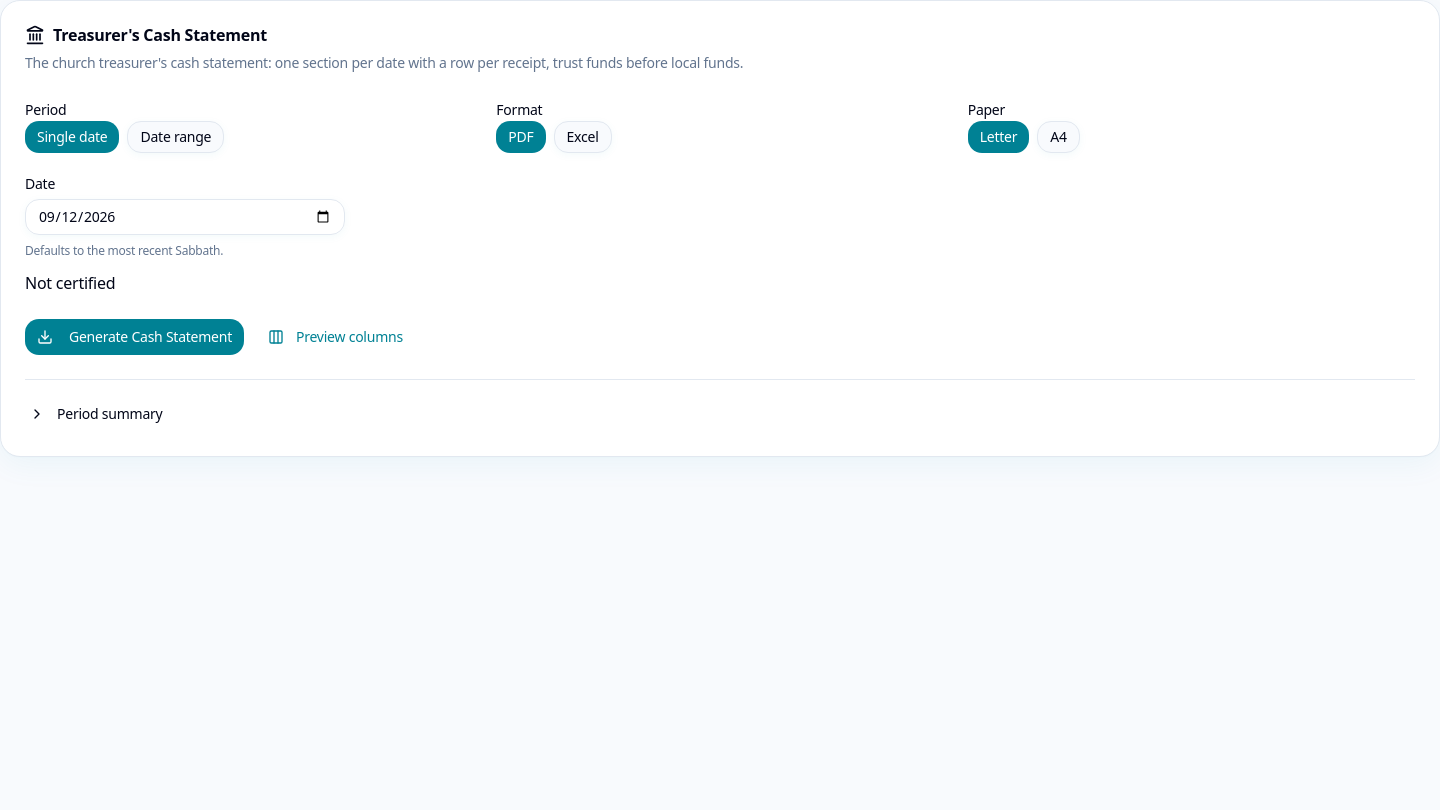
Test case: CashStatementExportCard › opens the columns preview for the chosen dates
Click the button "Preview columns" at (335, 337), box [256, 319, 415, 355]
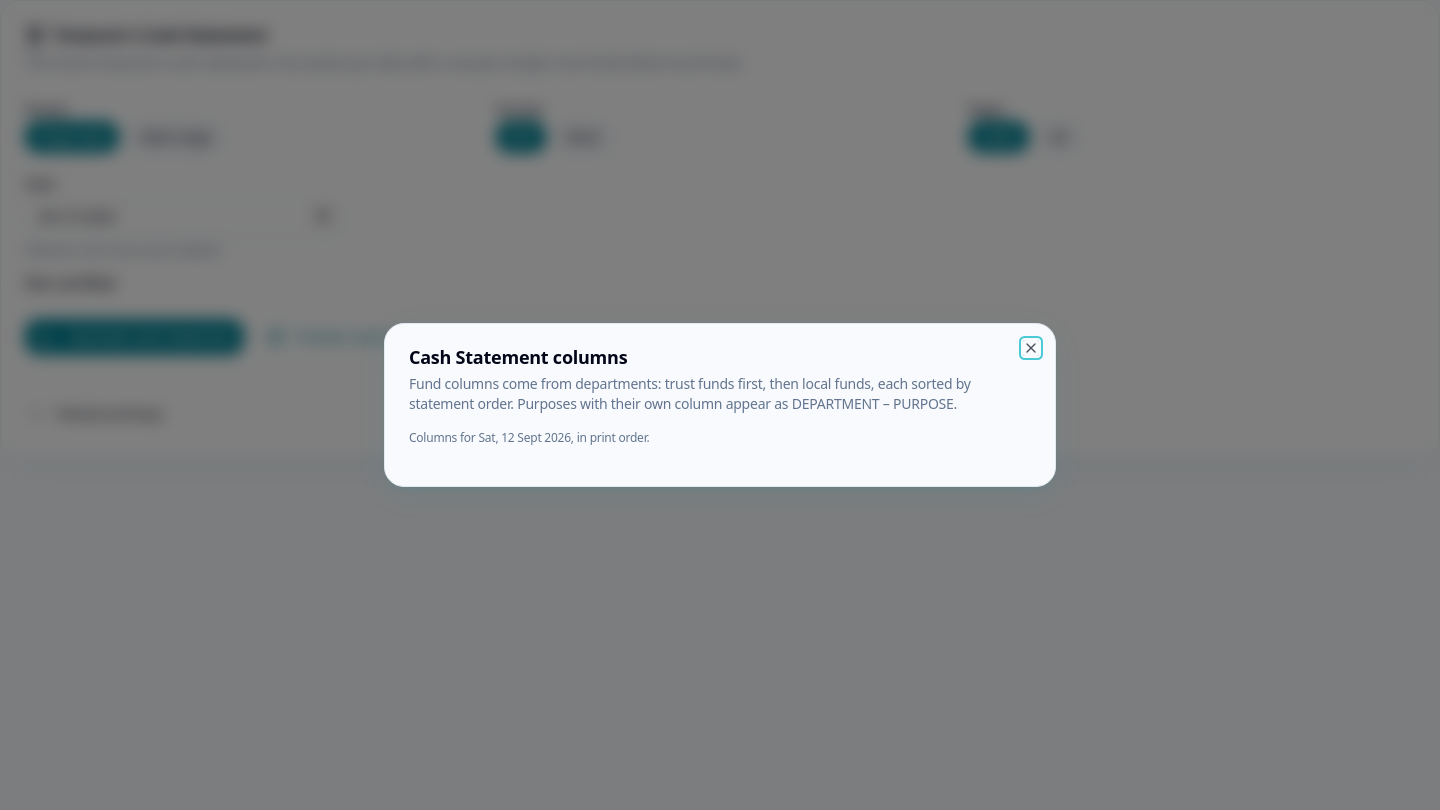
Check: the heading "Cash Statement columns" is shown, box [409, 345, 627, 369]
